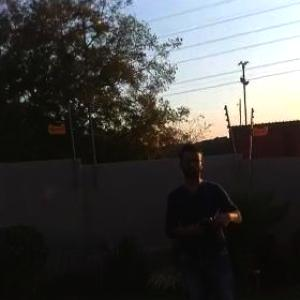follow: (160, 134, 248, 299)
